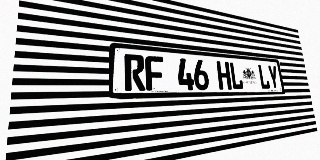4: (176, 58, 195, 90)
6: (192, 59, 210, 90)
F: (145, 55, 165, 91)
H: (216, 61, 232, 90)
L: (229, 62, 244, 90), (257, 64, 271, 89)
R: (124, 54, 146, 91)
Y: (267, 65, 280, 89)
